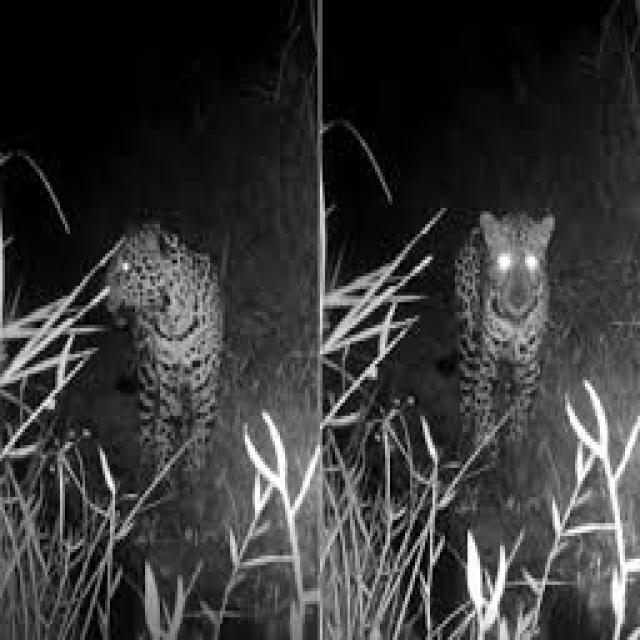Jaguar: (102, 218, 228, 523), (450, 208, 558, 507)
